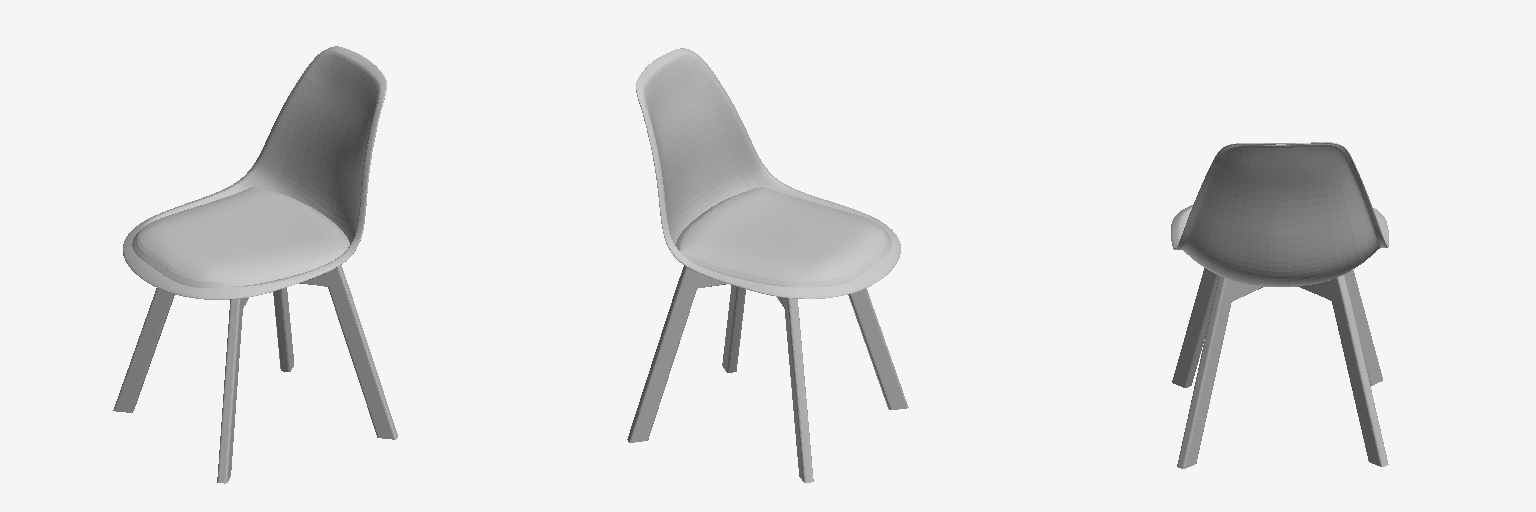
The model's file is Silla.obj.
The picture shows the model from 3 angles: view 1: azimuth 30°, elevation 25°; view 2: azimuth 150°, elevation 25°; view 3: azimuth 270°, elevation 25°; orthographic projection.
Parts seen in each view (by area): view 1: Cuarto:Silla:obj:Object003; view 2: Cuarto:Silla:obj:Object003; view 3: Cuarto:Silla:obj:Object003.
Part boxes in pixels (left/top/right/bottom): Cuarto:Silla:obj:Object003: left=113, top=46, right=397, bottom=483; Cuarto:Silla:obj:Object003: left=627, top=48, right=908, bottom=482; Cuarto:Silla:obj:Object003: left=1171, top=142, right=1388, bottom=468.
Size of the model in its own units: 1.14 by 1.59 by 0.9418.